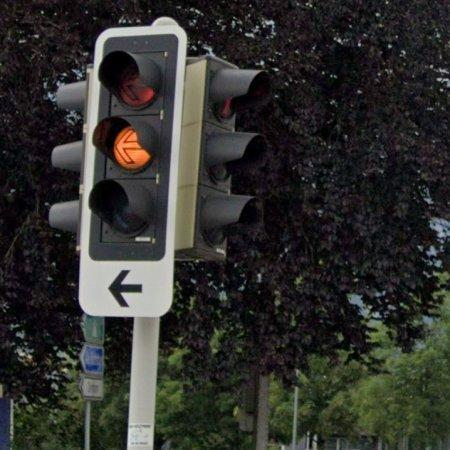traffic lights: (77, 25, 188, 273), (176, 55, 275, 262)
